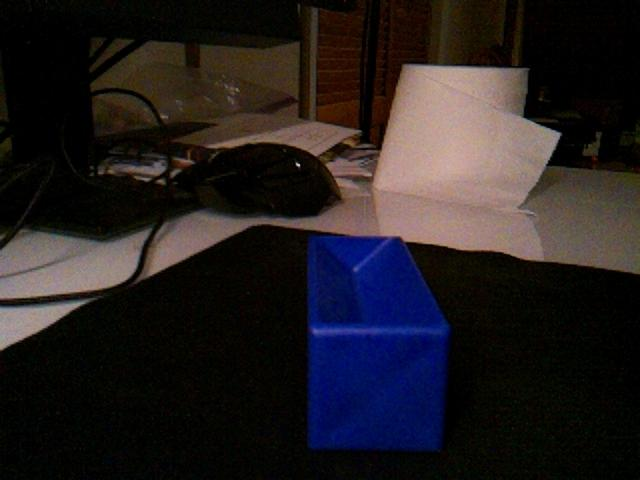blue: (305, 233, 452, 454)
